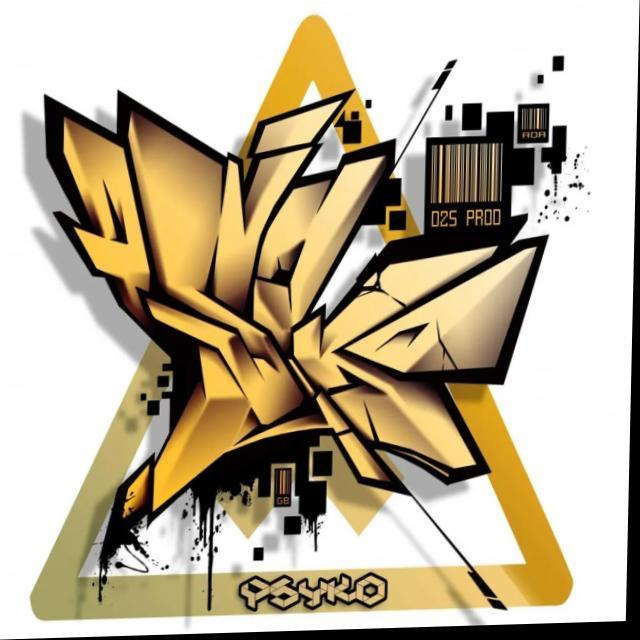-: (0, 0, 620, 640), (240, 571, 394, 617)
